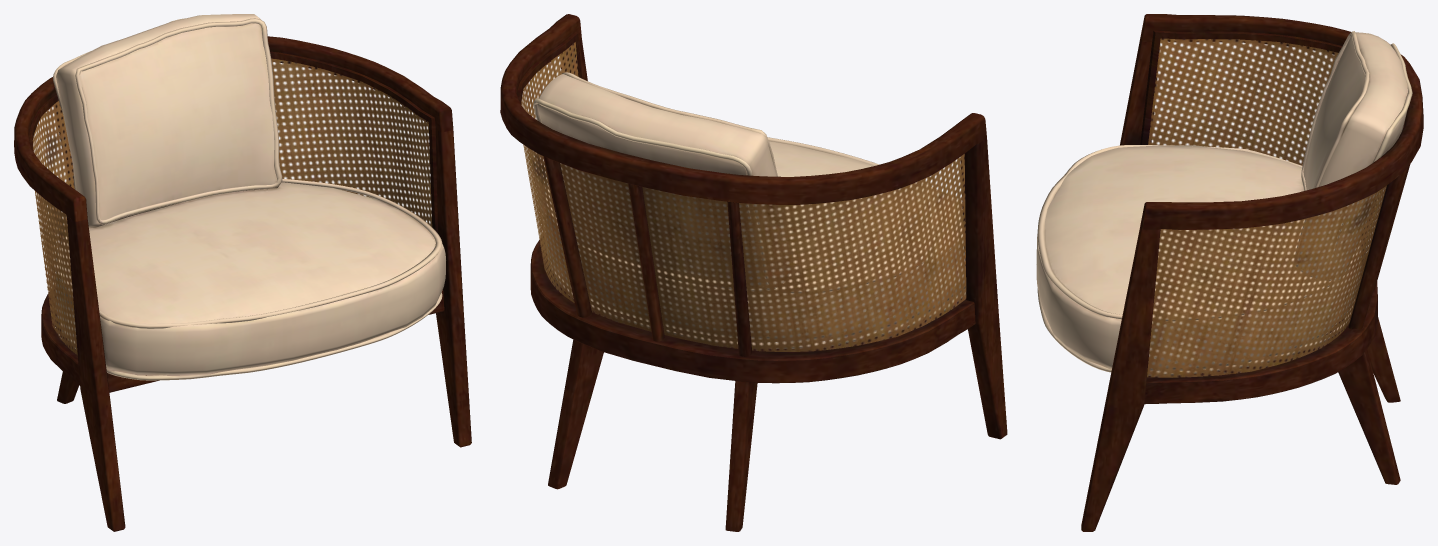
File: armchair_midcentury.glb
3 views of the same model, side by side, from view 1: azimuth 30°, elevation 25°; view 2: azimuth 150°, elevation 25°; view 3: azimuth 270°, elevation 25° (orthographic). The views are drawn at different scales.
Visible parts, largest first — view 1: Object_2; view 2: Object_2; view 3: Object_2.
Boxes of the visible parts, box(x1,y1,x2,y2) form: Object_2: box(14, 14, 471, 531); Object_2: box(500, 14, 1007, 531); Object_2: box(1036, 14, 1423, 531).
Size of the model in its own units: 0.7314 by 0.6573 by 0.614.
1 material, 1 textured.
